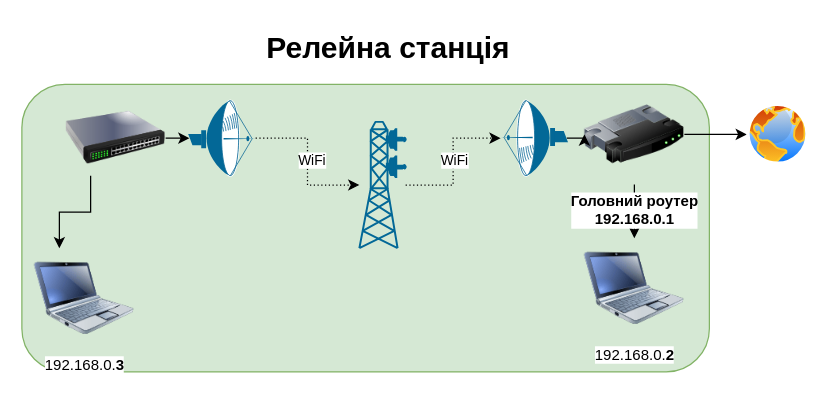
Some shapes in this 836 by 396 pixel diagram are drawn without their labels. Here are the shapes that lost their labels. From the top down, the centre of each, then its label:
point 115,137: Комутатор
point 777,133: ІНТЕРНЕТ
